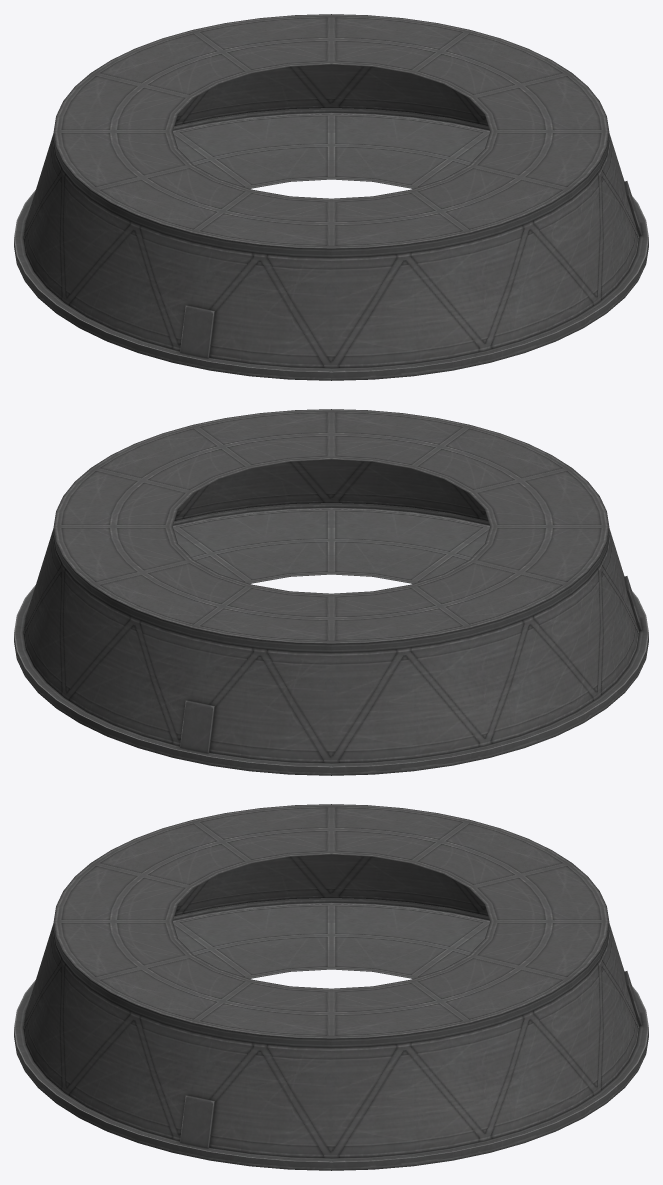
The model's file is rotanev_lv_fairing_s4_1.obj.
3 renders of one model, top to bottom at view 1: azimuth 30°, elevation 25°; view 2: azimuth 150°, elevation 25°; view 3: azimuth 270°, elevation 25°, orthographic.
Parts seen in each view (by area): view 1: 1; view 2: 1; view 3: 1.
Boxes of the visible parts, x1,y1,x2,y2 form: 1: (14,14,648,380); 1: (14,409,648,775); 1: (14,804,648,1170).
Bounding box in the file's own units: 5 × 1 × 5.
1 material, 1 textured.
